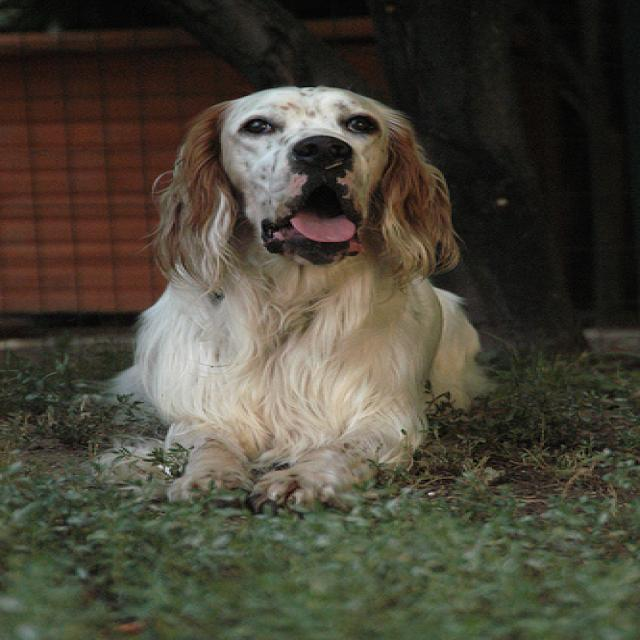dog-english_setter: (77, 69, 507, 512)
